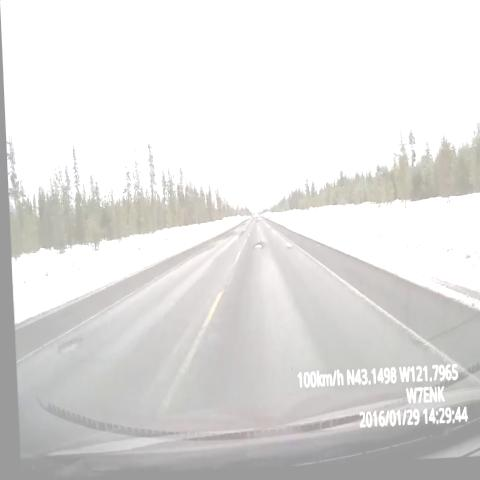pothole: (247, 230, 269, 261), (281, 240, 294, 259), (250, 214, 260, 233)
